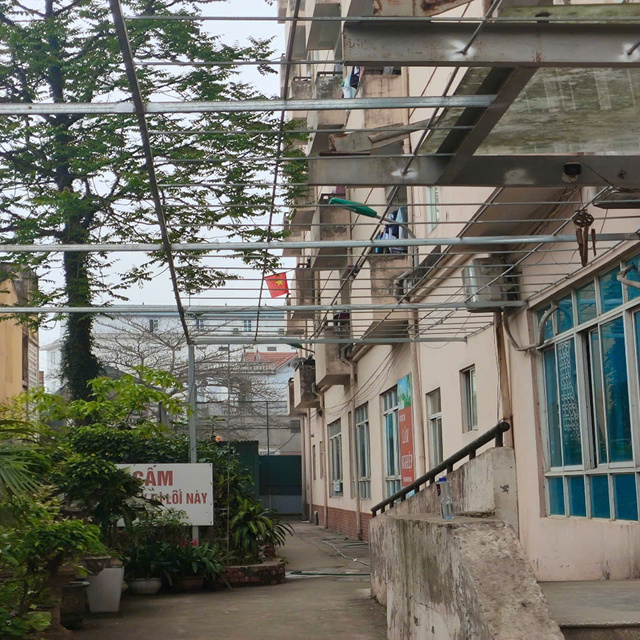laco: (262, 271, 295, 305)
